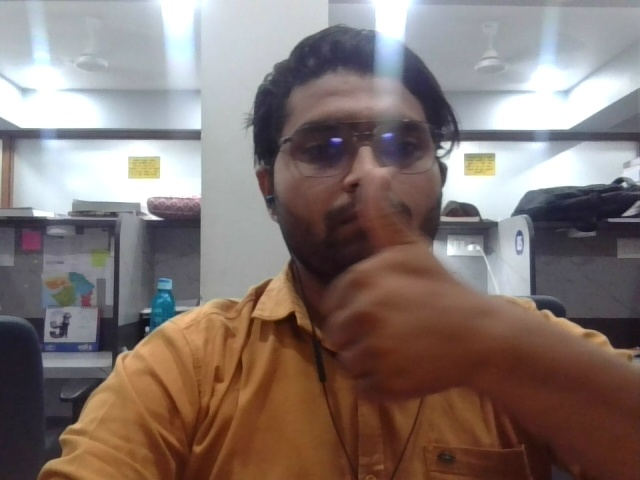ThumbsUp: (324, 167, 473, 412)
